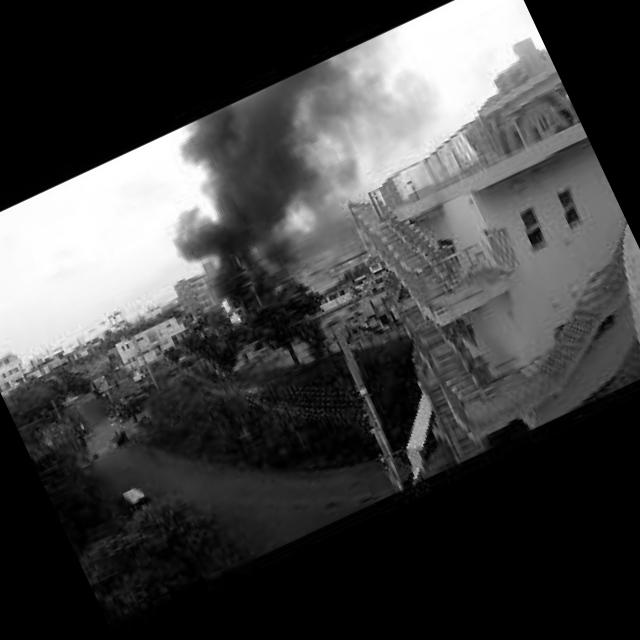fire: (214, 293, 243, 326)
smoke: (161, 24, 466, 254), (166, 165, 333, 328)
